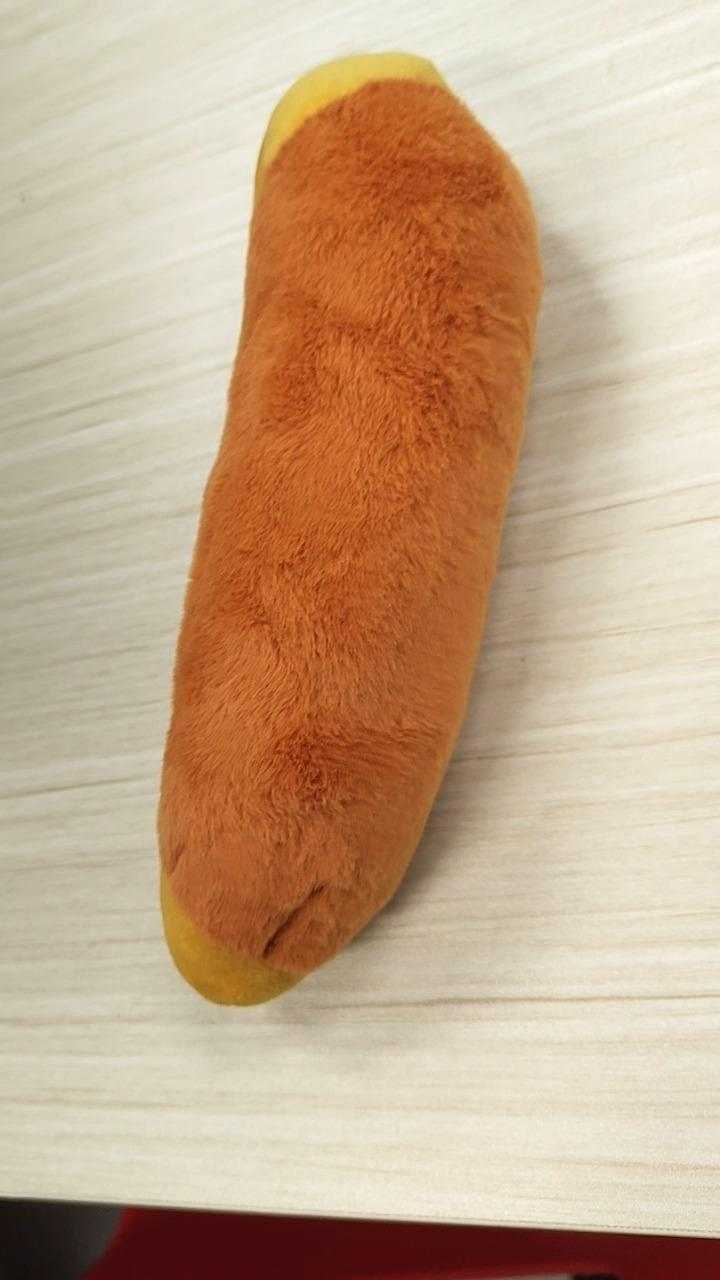hotdog: (155, 48, 544, 1007)
